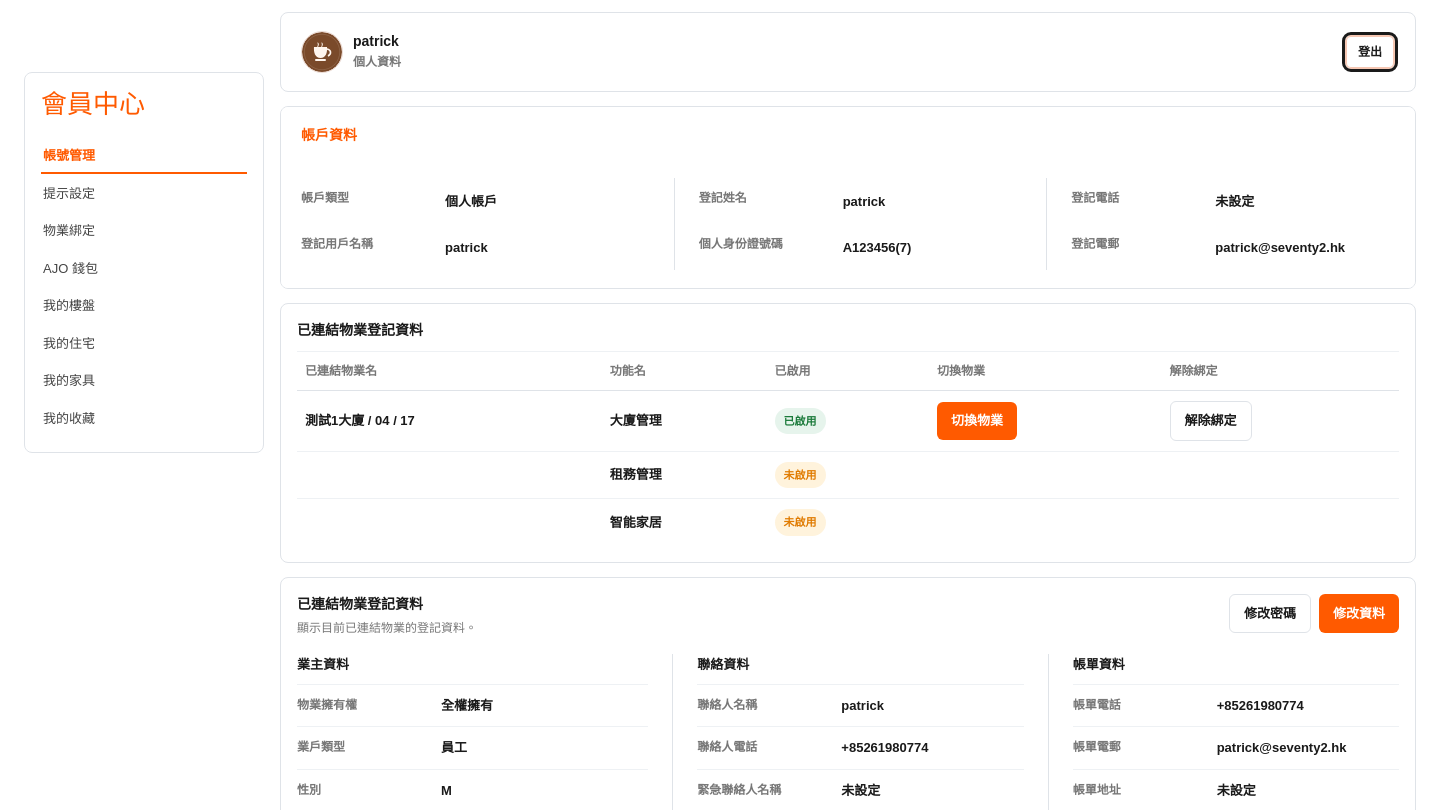
Test: AccountMyPage lazy data loading › formats the rejected request unit label with the AJO building name
Click the button with class "work-nav-item" showing "物業綁定" at (144, 231), box [41,213,247,249]
(page scrolled)
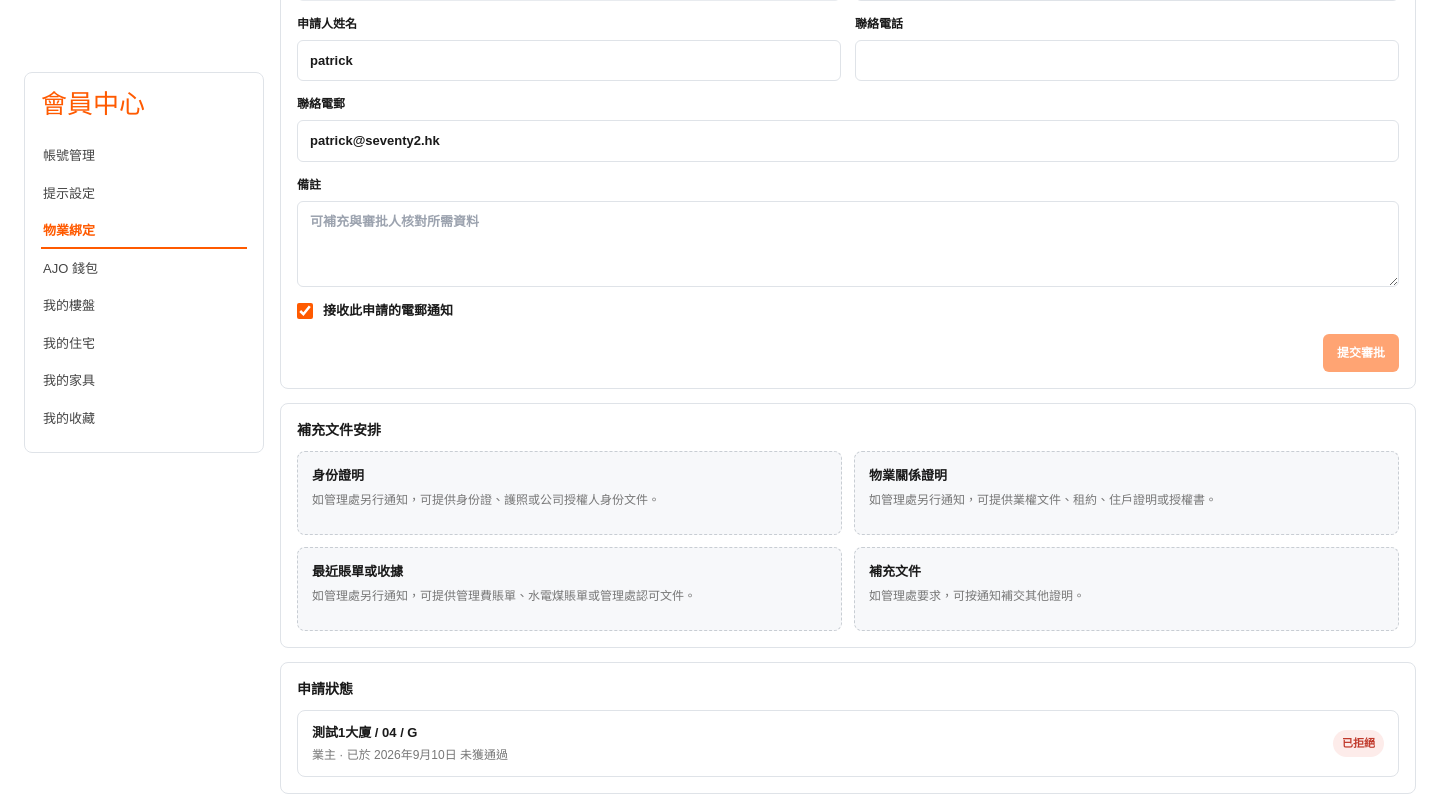
Now the text with class "binding-status-title" reads "測試1大廈 / 04 / G", box [312,725,418,740]
